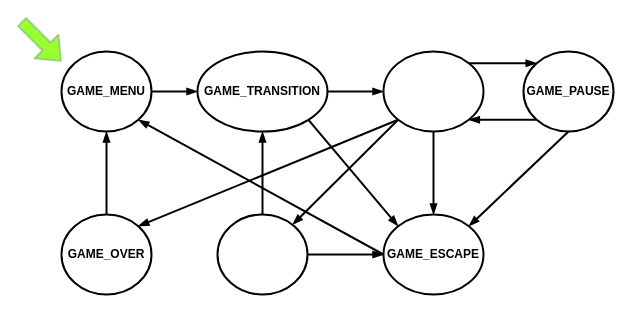
The diagram is 632 pixels wide and 313 high, and some of its shapes have lost their labels. The shapes that lost their labels are listed below. From the top down, each one's centre as x and y in pixels, then its label:
the point at 433,91: GAME_ACTIVE
the point at 262,254: GAME_WIN
